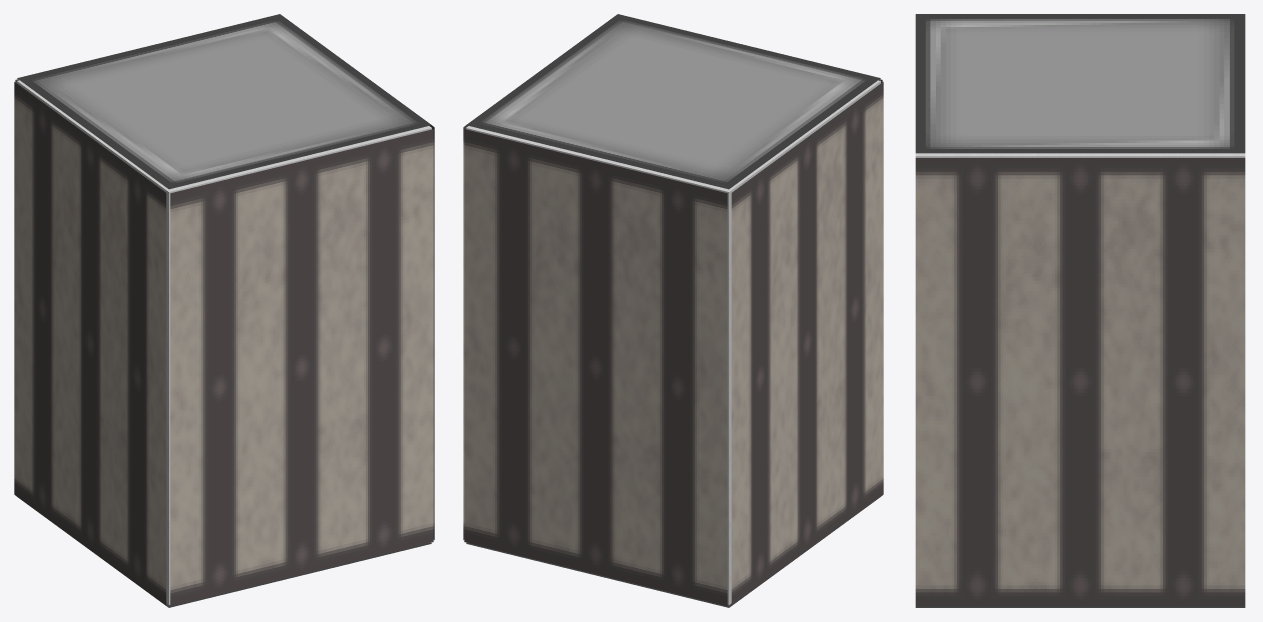
The model's file is watercooler.obj.
The picture shows the model from 3 angles, left to right: view 1: azimuth 30°, elevation 25°; view 2: azimuth 150°, elevation 25°; view 3: azimuth 270°, elevation 25°; orthographic projection. The views are drawn at different scales.
Parts seen in each view (by area): view 1: Watercooler4, Watercooler5, Watercooler6, Watercooler1, Watercooler2, Watercooler7; view 2: Watercooler3, Watercooler5, Watercooler6, Watercooler1, Watercooler2, Watercooler7; view 3: Watercooler2, Watercooler6, Watercooler1, Watercooler7.
Part boxes in pixels (bbox=[...]): Watercooler4: bbox=[170, 129, 433, 606]; Watercooler5: bbox=[14, 82, 166, 605]; Watercooler6: bbox=[17, 14, 431, 189]; Watercooler1: bbox=[17, 80, 431, 604]; Watercooler2: bbox=[429, 125, 434, 539]; Watercooler7: bbox=[18, 497, 431, 607]; Watercooler3: bbox=[464, 129, 727, 606]; Watercooler5: bbox=[731, 82, 883, 605]; Watercooler6: bbox=[466, 14, 880, 189]; Watercooler1: bbox=[466, 80, 880, 604]; Watercooler2: bbox=[463, 125, 468, 539]; Watercooler7: bbox=[466, 497, 879, 607]; Watercooler2: bbox=[915, 158, 1245, 606]; Watercooler6: bbox=[915, 14, 1245, 153]; Watercooler1: bbox=[915, 153, 1245, 157]; Watercooler7: bbox=[915, 606, 1245, 607].
Size of the model in its own units: 2.04 by 3.04 by 2.04.
Materials: 3 (3 with a texture image).
